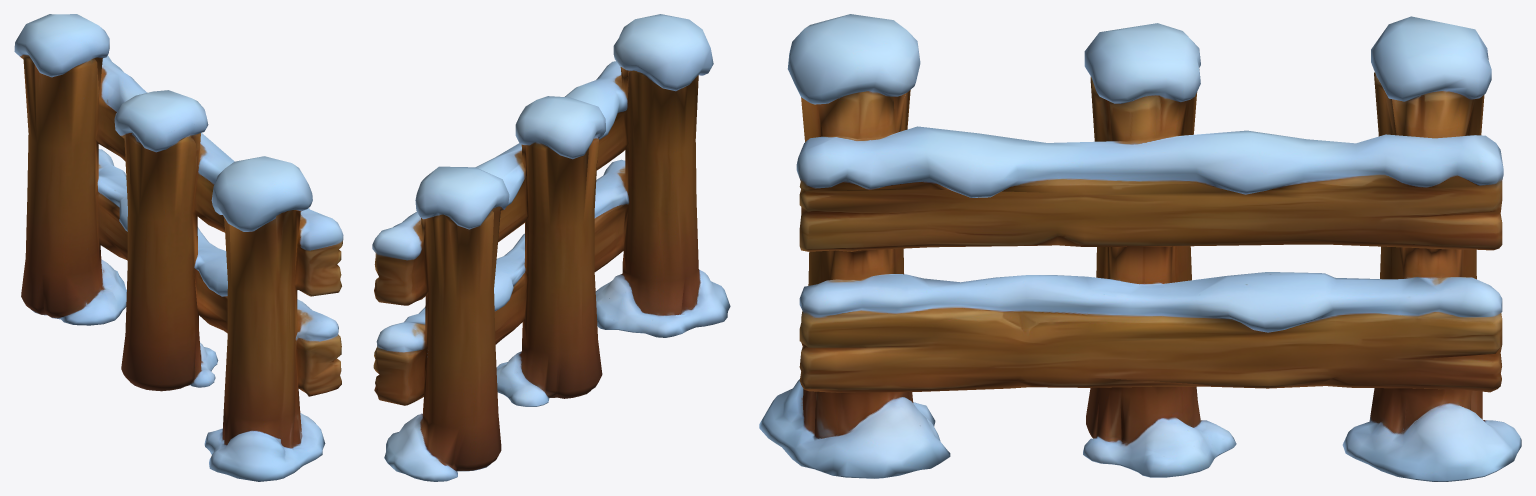
Rendered from model_url.glb.
3 views of the same model, side by side, from view 1: azimuth 30°, elevation 25°; view 2: azimuth 150°, elevation 25°; view 3: azimuth 270°, elevation 25° (orthographic). The views are drawn at different scales.
Parts seen in each view (by area): view 1: tripo_node_e5a6d6b0-b7f0-416c-b392-27c8dd039b3c; view 2: tripo_node_e5a6d6b0-b7f0-416c-b392-27c8dd039b3c; view 3: tripo_node_e5a6d6b0-b7f0-416c-b392-27c8dd039b3c.
Part boxes in pixels (bbox=[...]): tripo_node_e5a6d6b0-b7f0-416c-b392-27c8dd039b3c: bbox=[14, 14, 343, 481]; tripo_node_e5a6d6b0-b7f0-416c-b392-27c8dd039b3c: bbox=[372, 14, 730, 481]; tripo_node_e5a6d6b0-b7f0-416c-b392-27c8dd039b3c: bbox=[759, 14, 1521, 481].
Bounding box in the file's own units: 0.2779 × 0.591 × 1.
1 material, 1 textured.
